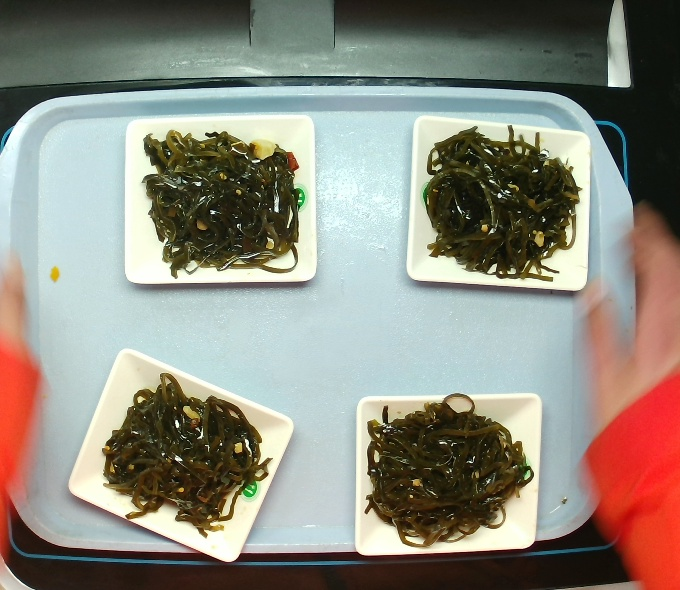wcq-LiangBanHaiDai: (93, 369, 273, 533), (410, 117, 588, 281), (135, 121, 307, 276), (362, 386, 525, 549)
